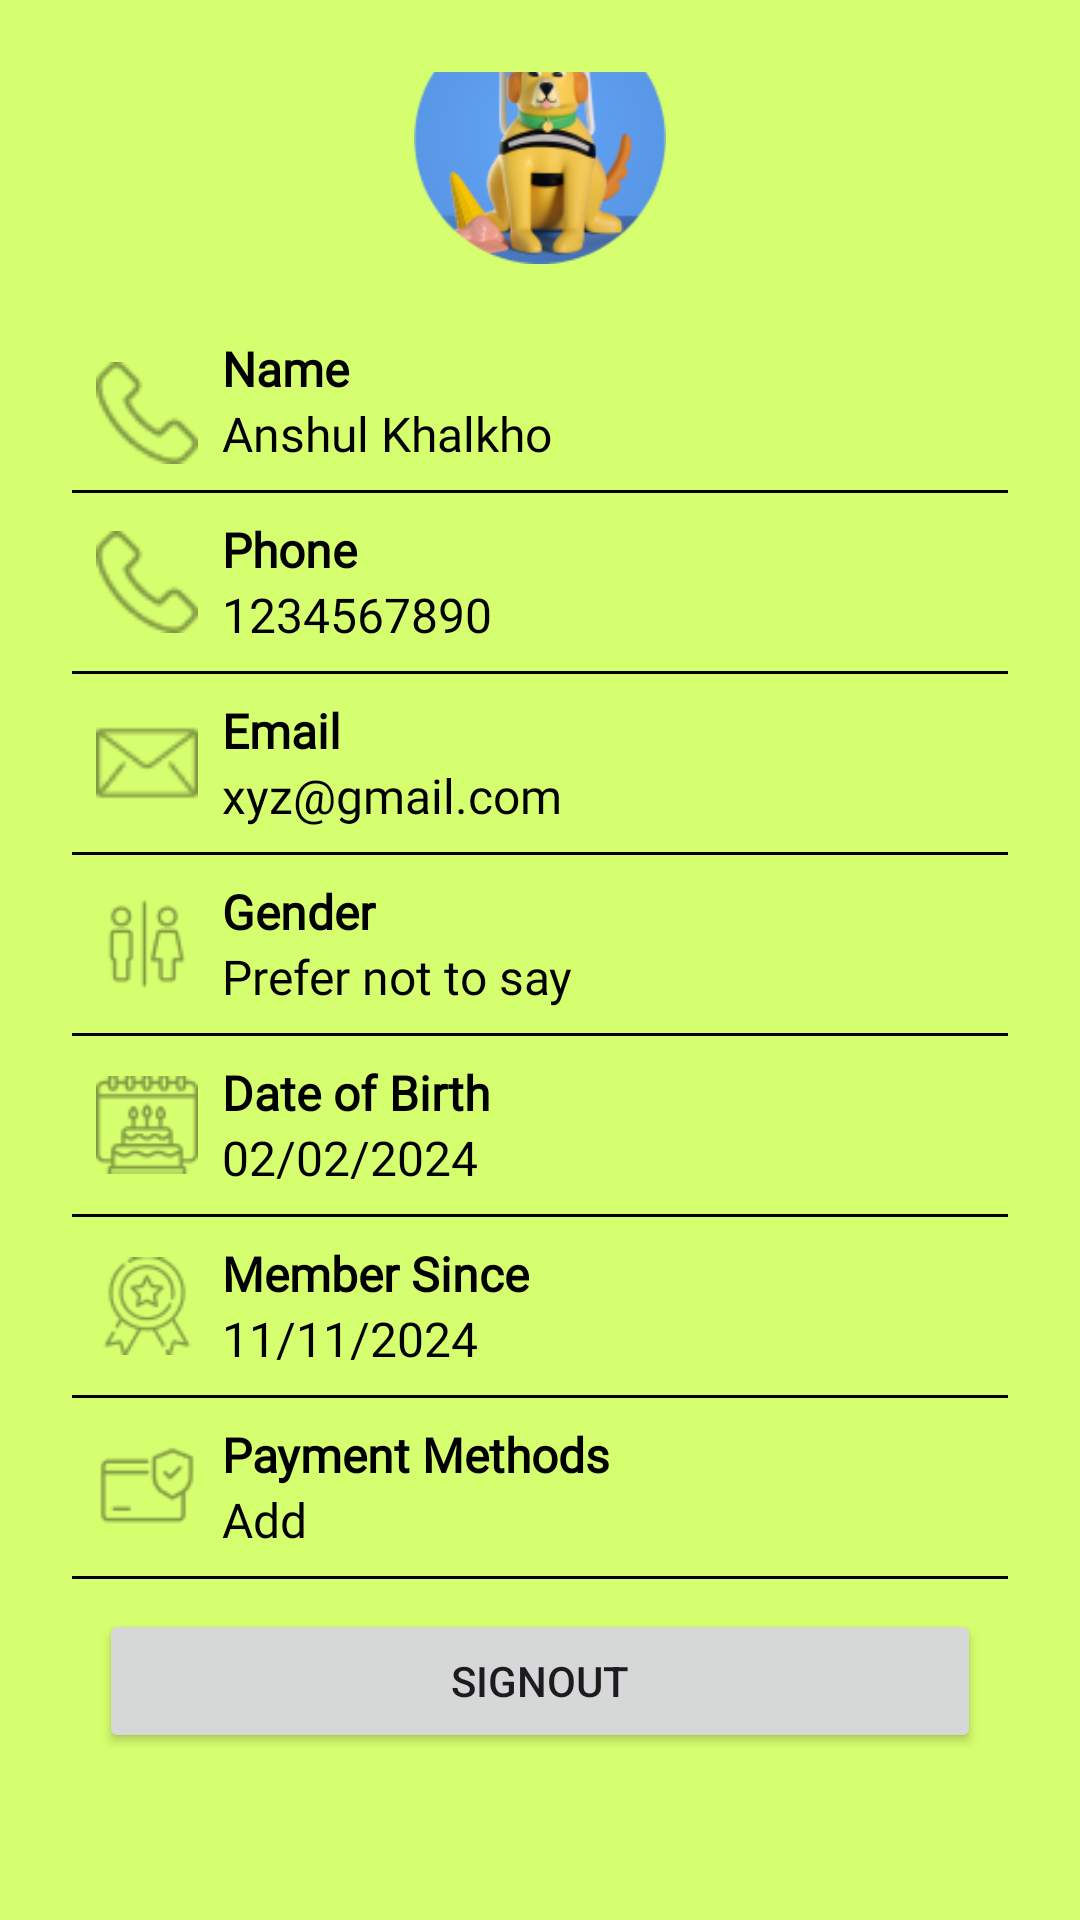

Named icons in this screenshot (1080px×1920px) and their bounding boxes, bbox=[x1, y1, x2, y2]:
achieic: bbox=[105, 1257, 189, 1355]
bdic: bbox=[96, 1076, 198, 1174]
callic: bbox=[96, 362, 198, 464], bbox=[96, 531, 198, 633]
mailic: bbox=[96, 728, 198, 798]
secic: bbox=[100, 1448, 194, 1523]
